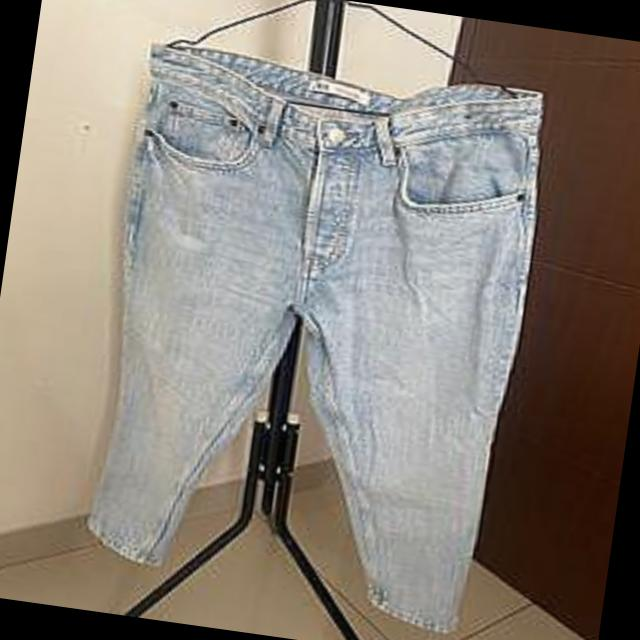TROUSER: (46, 25, 592, 640)
